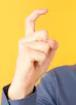anticlockwise: (15, 7, 60, 88)
